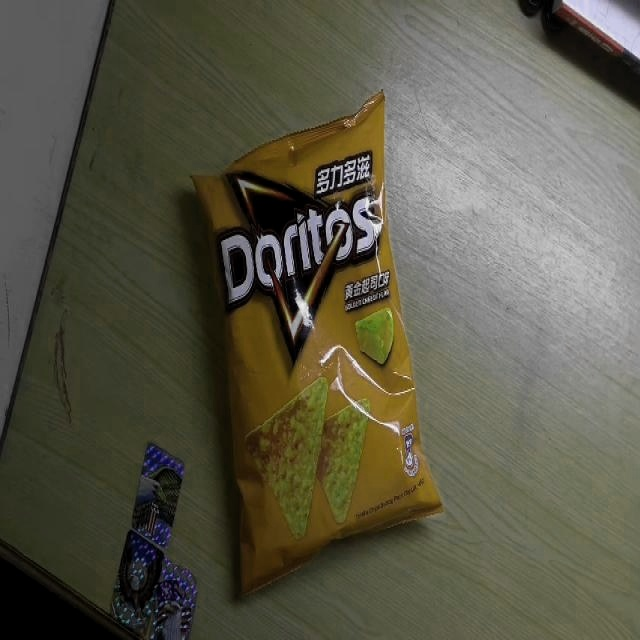Doritos: (189, 88, 446, 604)
